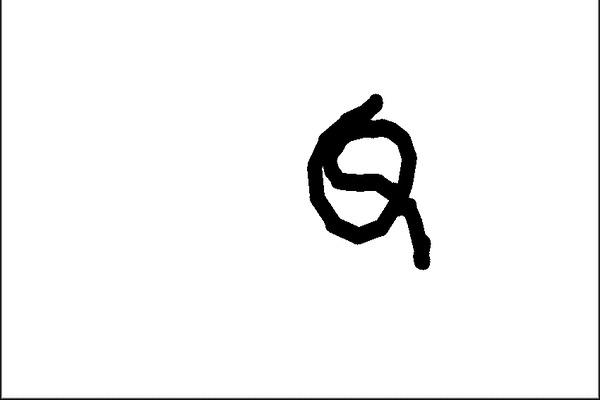Q: (292, 91, 438, 271)
